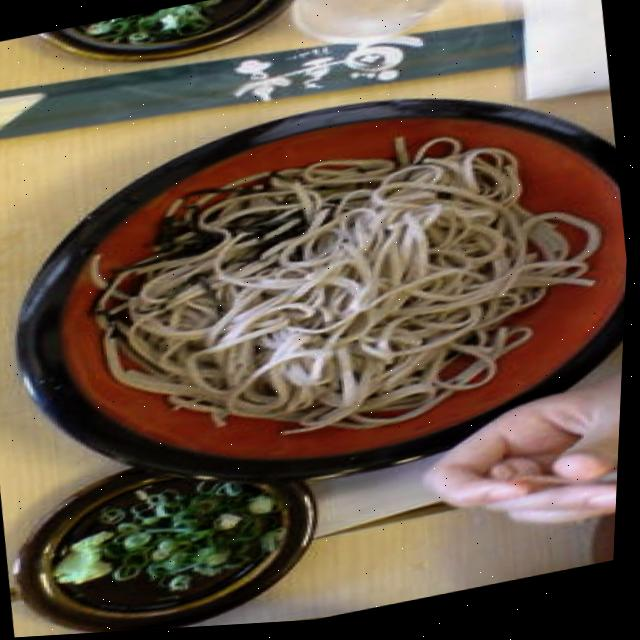面条主食: (0, 312, 369, 640)
